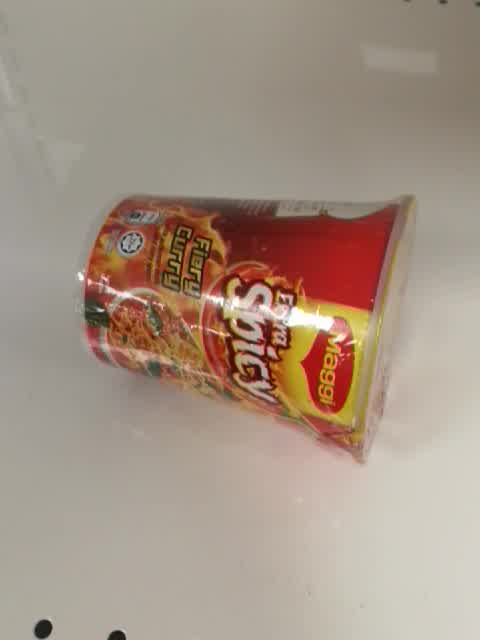maggi: (71, 192, 418, 469)
